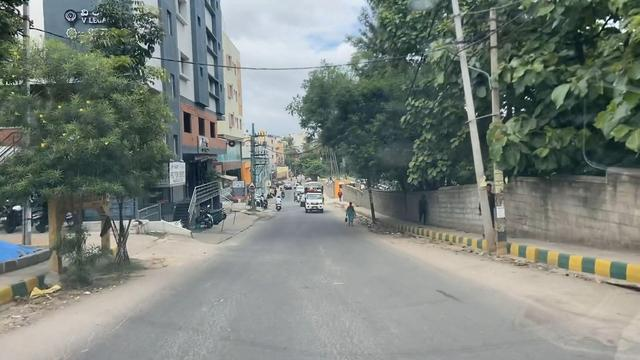HMV: (475, 179, 512, 236), (301, 182, 329, 219)
LMV: (194, 201, 228, 234)
